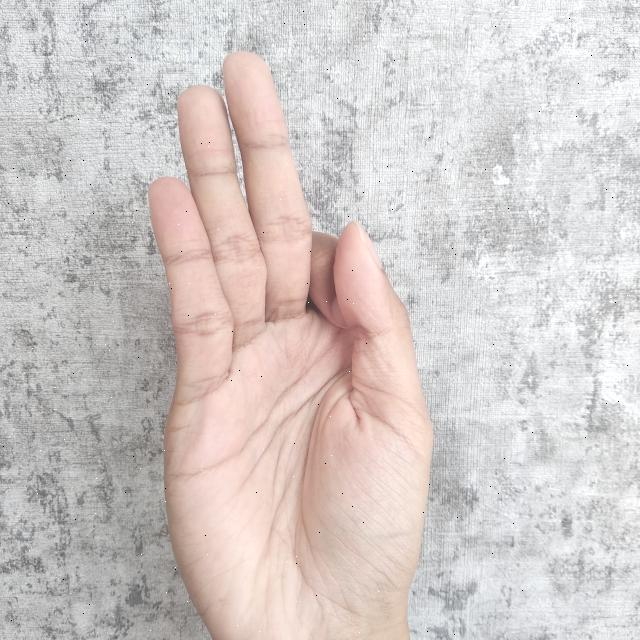F: (146, 46, 435, 640)
